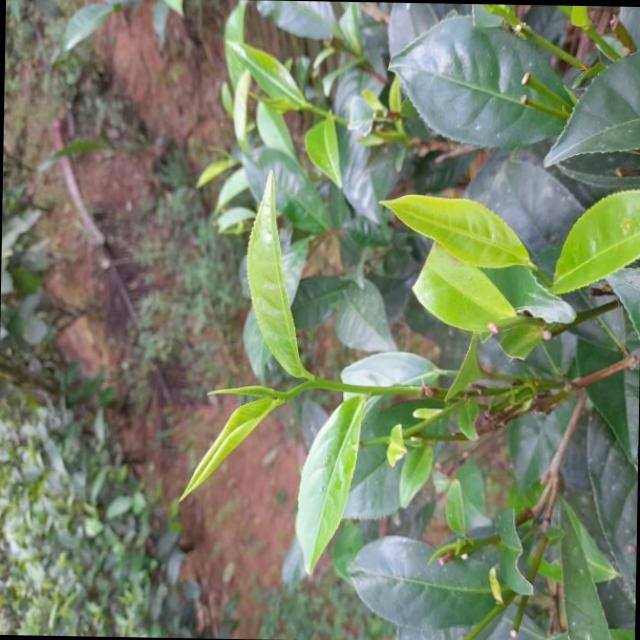Stem: (282, 389, 294, 401), (304, 101, 311, 108)
